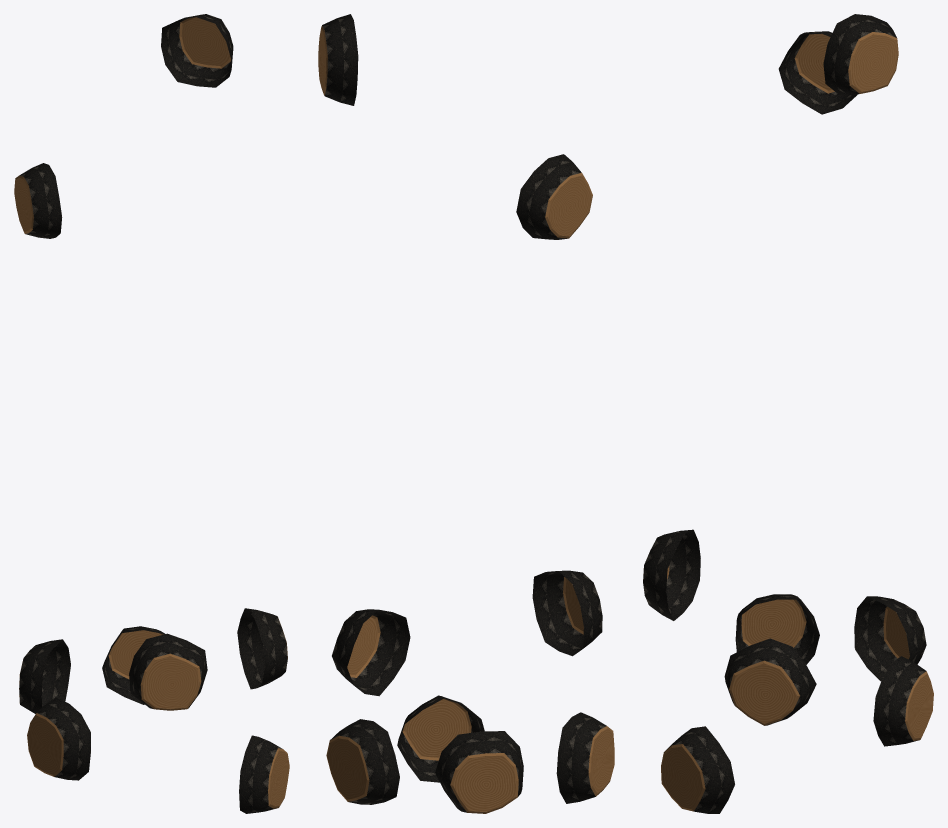
The model's file is Sitka_Mature_03_LowPruned_Recent_LOD1.fbx.
3 views of the same model, side by side, from view 1: azimuth 30°, elevation 25°; view 2: azimuth 150°, elevation 25°; view 3: azimuth 270°, elevation 25° (orthographic). The views are drawn at different scales.
Visible parts, largest first — view 1: Sitka_Mature_03_LowPruned_Recent_LOD1_Scars; view 2: Sitka_Mature_03_LowPruned_Recent_LOD1_Scars; view 3: Sitka_Mature_03_LowPruned_Recent_LOD1_Scars.
Boxes of the visible parts, x1,y1,x2,y2 form: Sitka_Mature_03_LowPruned_Recent_LOD1_Scars: (14, 14, 289, 813); Sitka_Mature_03_LowPruned_Recent_LOD1_Scars: (318, 14, 614, 813); Sitka_Mature_03_LowPruned_Recent_LOD1_Scars: (643, 14, 933, 813).
Size of what is drawn, in the model's own units: 46.68 by 139 by 45.7.
Materials: 2 (2 with a texture image).
